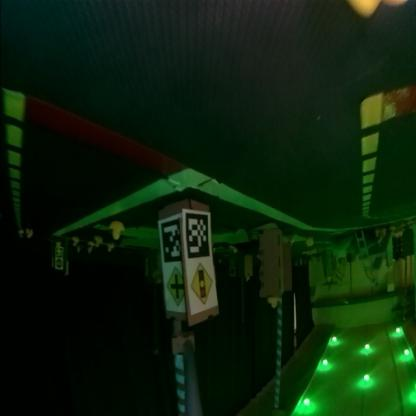Duckie: (110, 221, 124, 240), (269, 299, 278, 309), (98, 238, 104, 246), (73, 238, 78, 245), (110, 246, 113, 252), (29, 230, 32, 235), (91, 245, 94, 250)
Intersection sign: (164, 269, 186, 313)
QR code: (187, 215, 211, 259), (160, 223, 184, 264)
Signal sign: (190, 263, 214, 306)
